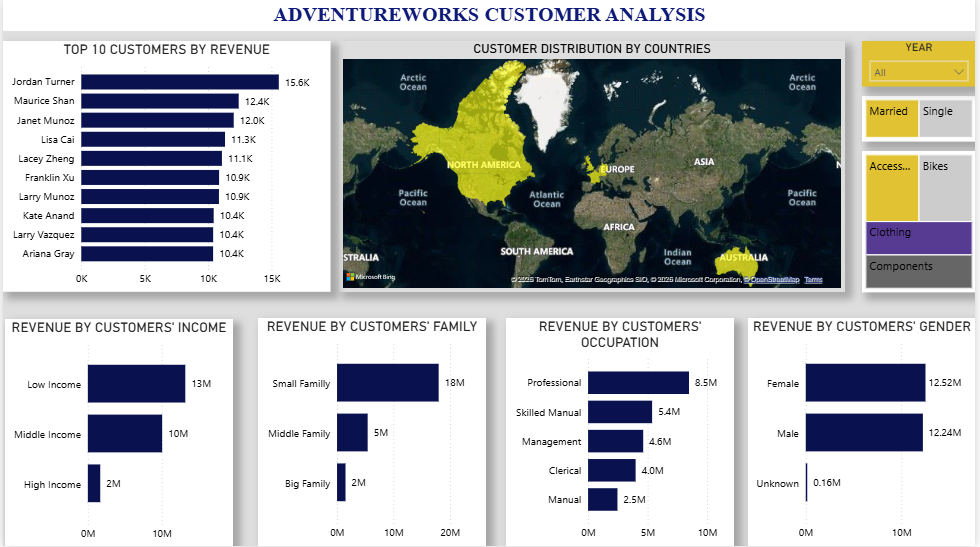

The dashboard page shown, as its layout file describes it:
{"tool":"powerbi","page":{"name":"CUSTOMERS ANALYSIS","canvas":[1280,720],"ordinal":2},"visuals":[{"type":"textbox","box":[10.5,0,1269.8,41.9],"z":0},{"type":"textbox","box":[0,0,1280.3,41.9],"z":1000},{"type":"filledMap","title":"CUSTOMER DISTRIBUTION BY COUNTRIES","fields":{"Category":["regions.Country"]},"box":[442.2,55.3,666.1,330.2],"z":2000},{"type":"clusteredBarChart","title":"TOP 10 CUSTOMERS BY REVENUE","fields":{"Category":["customers.CustomerName"],"Y":["MeasureHolder.Total Revenue"]},"box":[0,55.1,430.8,330.3],"z":3000},{"type":"clusteredBarChart","title":"REVENUE BY CUSTOMERS'' INCOME","fields":{"Category":["customers.IncomeGroup"],"Y":["MeasureHolder.Total Revenue"]},"box":[2.8,421.2,300,300],"z":4000},{"type":"clusteredBarChart","title":"REVENUE BY CUSTOMERS'' FAMILY","fields":{"Y":["MeasureHolder.Total Revenue"],"Category":["customers.FamilyType"]},"box":[335.8,419.8,300,300],"z":5000},{"type":"clusteredBarChart","title":"REVENUE BY CUSTOMERS'' OCCUPATION","fields":{"Y":["MeasureHolder.Total Revenue"],"Category":["customers.Occupation"]},"box":[662,419.8,300,300],"z":6000},{"type":"clusteredBarChart","title":"REVENUE BY CUSTOMERS'' GENDER","fields":{"Y":["MeasureHolder.Total Revenue"],"Category":["customers.Gender"]},"box":[980,419.8,300,300],"z":7000},{"type":"treemap","fields":{"Values":["MeasureHolder.EqualValue"],"Group":["customers.MaritalStatus"]},"box":[1129.6,127.6,150.2,59.5],"z":8000},{"type":"slicer","title":"YEAR","fields":{"Values":["calendar.Year"]},"box":[1129.6,55.3,150.2,59.5],"z":9000},{"type":"treemap","fields":{"Values":["MeasureHolder.EqualValue"],"Group":["product_categories.CategoryName"]},"box":[1129.6,199.8,150,185.7],"z":10000}]}

Visuals, with their boxes in screenshot pixels (x1, y1, x2, y2), scaled from the page's 1280x720 canvas onto the 980x547 screenshot:
textbox: BBox(8, 0, 979, 32)
textbox: BBox(0, 0, 979, 32)
"CUSTOMER DISTRIBUTION BY COUNTRIES" filledMap: BBox(339, 42, 849, 293)
"TOP 10 CUSTOMERS BY REVENUE" clusteredBarChart: BBox(0, 42, 330, 293)
"REVENUE BY CUSTOMERS'' INCOME" clusteredBarChart: BBox(2, 320, 232, 546)
"REVENUE BY CUSTOMERS'' FAMILY" clusteredBarChart: BBox(257, 319, 487, 546)
"REVENUE BY CUSTOMERS'' OCCUPATION" clusteredBarChart: BBox(507, 319, 737, 546)
"REVENUE BY CUSTOMERS'' GENDER" clusteredBarChart: BBox(750, 319, 979, 546)
treemap - MeasureHolder.EqualValue x customers.MaritalStatus: BBox(865, 97, 979, 142)
"YEAR" slicer: BBox(865, 42, 979, 87)
treemap - MeasureHolder.EqualValue x product_categories.CategoryName: BBox(865, 152, 979, 293)
